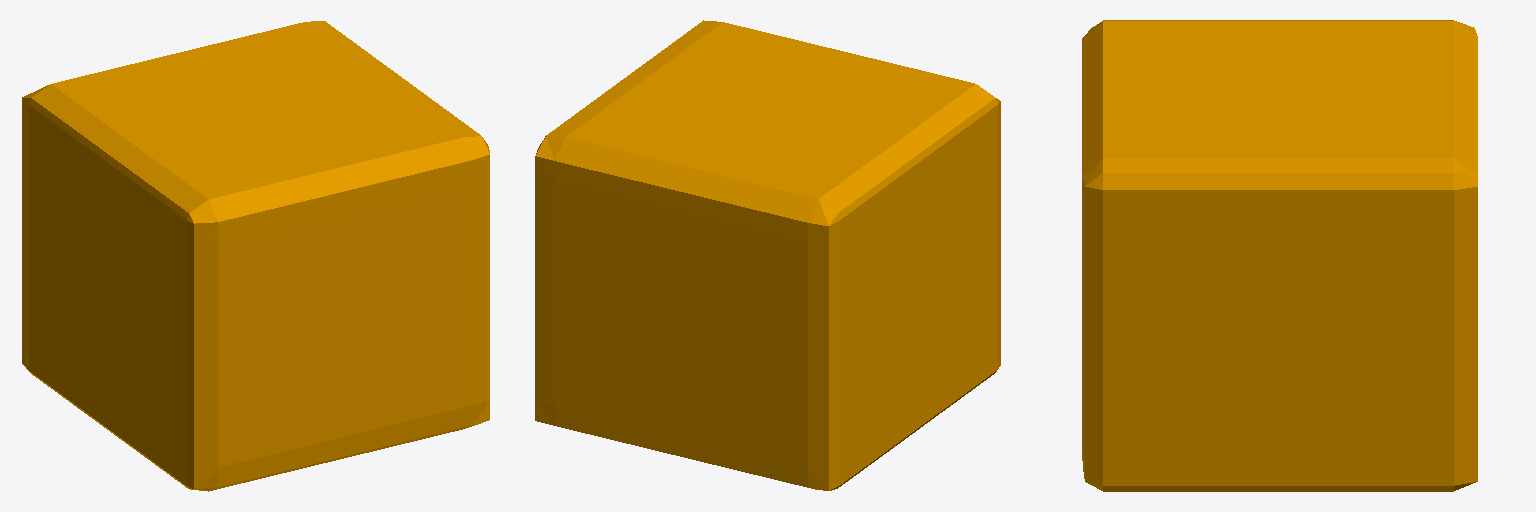
The robot description file, URDF, robot "cylinder_box_160":
<?xml version="1.0" encoding="utf-8"?>  <robot name="cylinder_box_160">   <link name="cylinder_box_160">     <visual>       <geometry>         <mesh filename="../meshes/box/box_160.stl" scale="1 1 1"/>       </geometry>     </visual>     <collision>       <geometry>         <mesh filename="../meshes/box/box_160.stl" scale="1 1 1"/>       </geometry>     </collision>     <inertial>        <origin         xyz="0 0 0"         rpy="0 0 0" />       <mass value="0.4320657512272656"/>       <origin rpy="0 0 0" xyz="0 0 0"/>       <inertia ixx="0.0004029664277287697" ixy="2.3603956089253723e-07" ixz="3.9559710825091894e-08" iyy="0.00039327403639301495" iyz="1.0684618688028977e-07" izz="0.00043499079403642115"/>     </inertial>   </link>  </robot>

--- What the picture shows (computed from the rendered views, not written in the file) ---
The picture shows the robot from 3 angles, left to right: view 1: azimuth 30°, elevation 25°; view 2: azimuth 150°, elevation 25°; view 3: azimuth 270°, elevation 25°; orthographic projection.
Robot: cylinder_box_160 — 1 links, 0 joints (none); root link cylinder_box_160; default pose: all joints at 0.
Links seen in each view (by area): view 1: cylinder_box_160; view 2: cylinder_box_160; view 3: cylinder_box_160.
Link boxes in pixels (x1,y1,x2,y2): cylinder_box_160: (22, 21, 489, 491); cylinder_box_160: (535, 20, 1000, 490); cylinder_box_160: (1082, 20, 1477, 491).
Size in the robot's own frame: 0.0773 by 0.0792 by 0.0714 metres.
Meshes: 1 distinct files referenced, 1 mesh visuals loaded (1 binary STL).